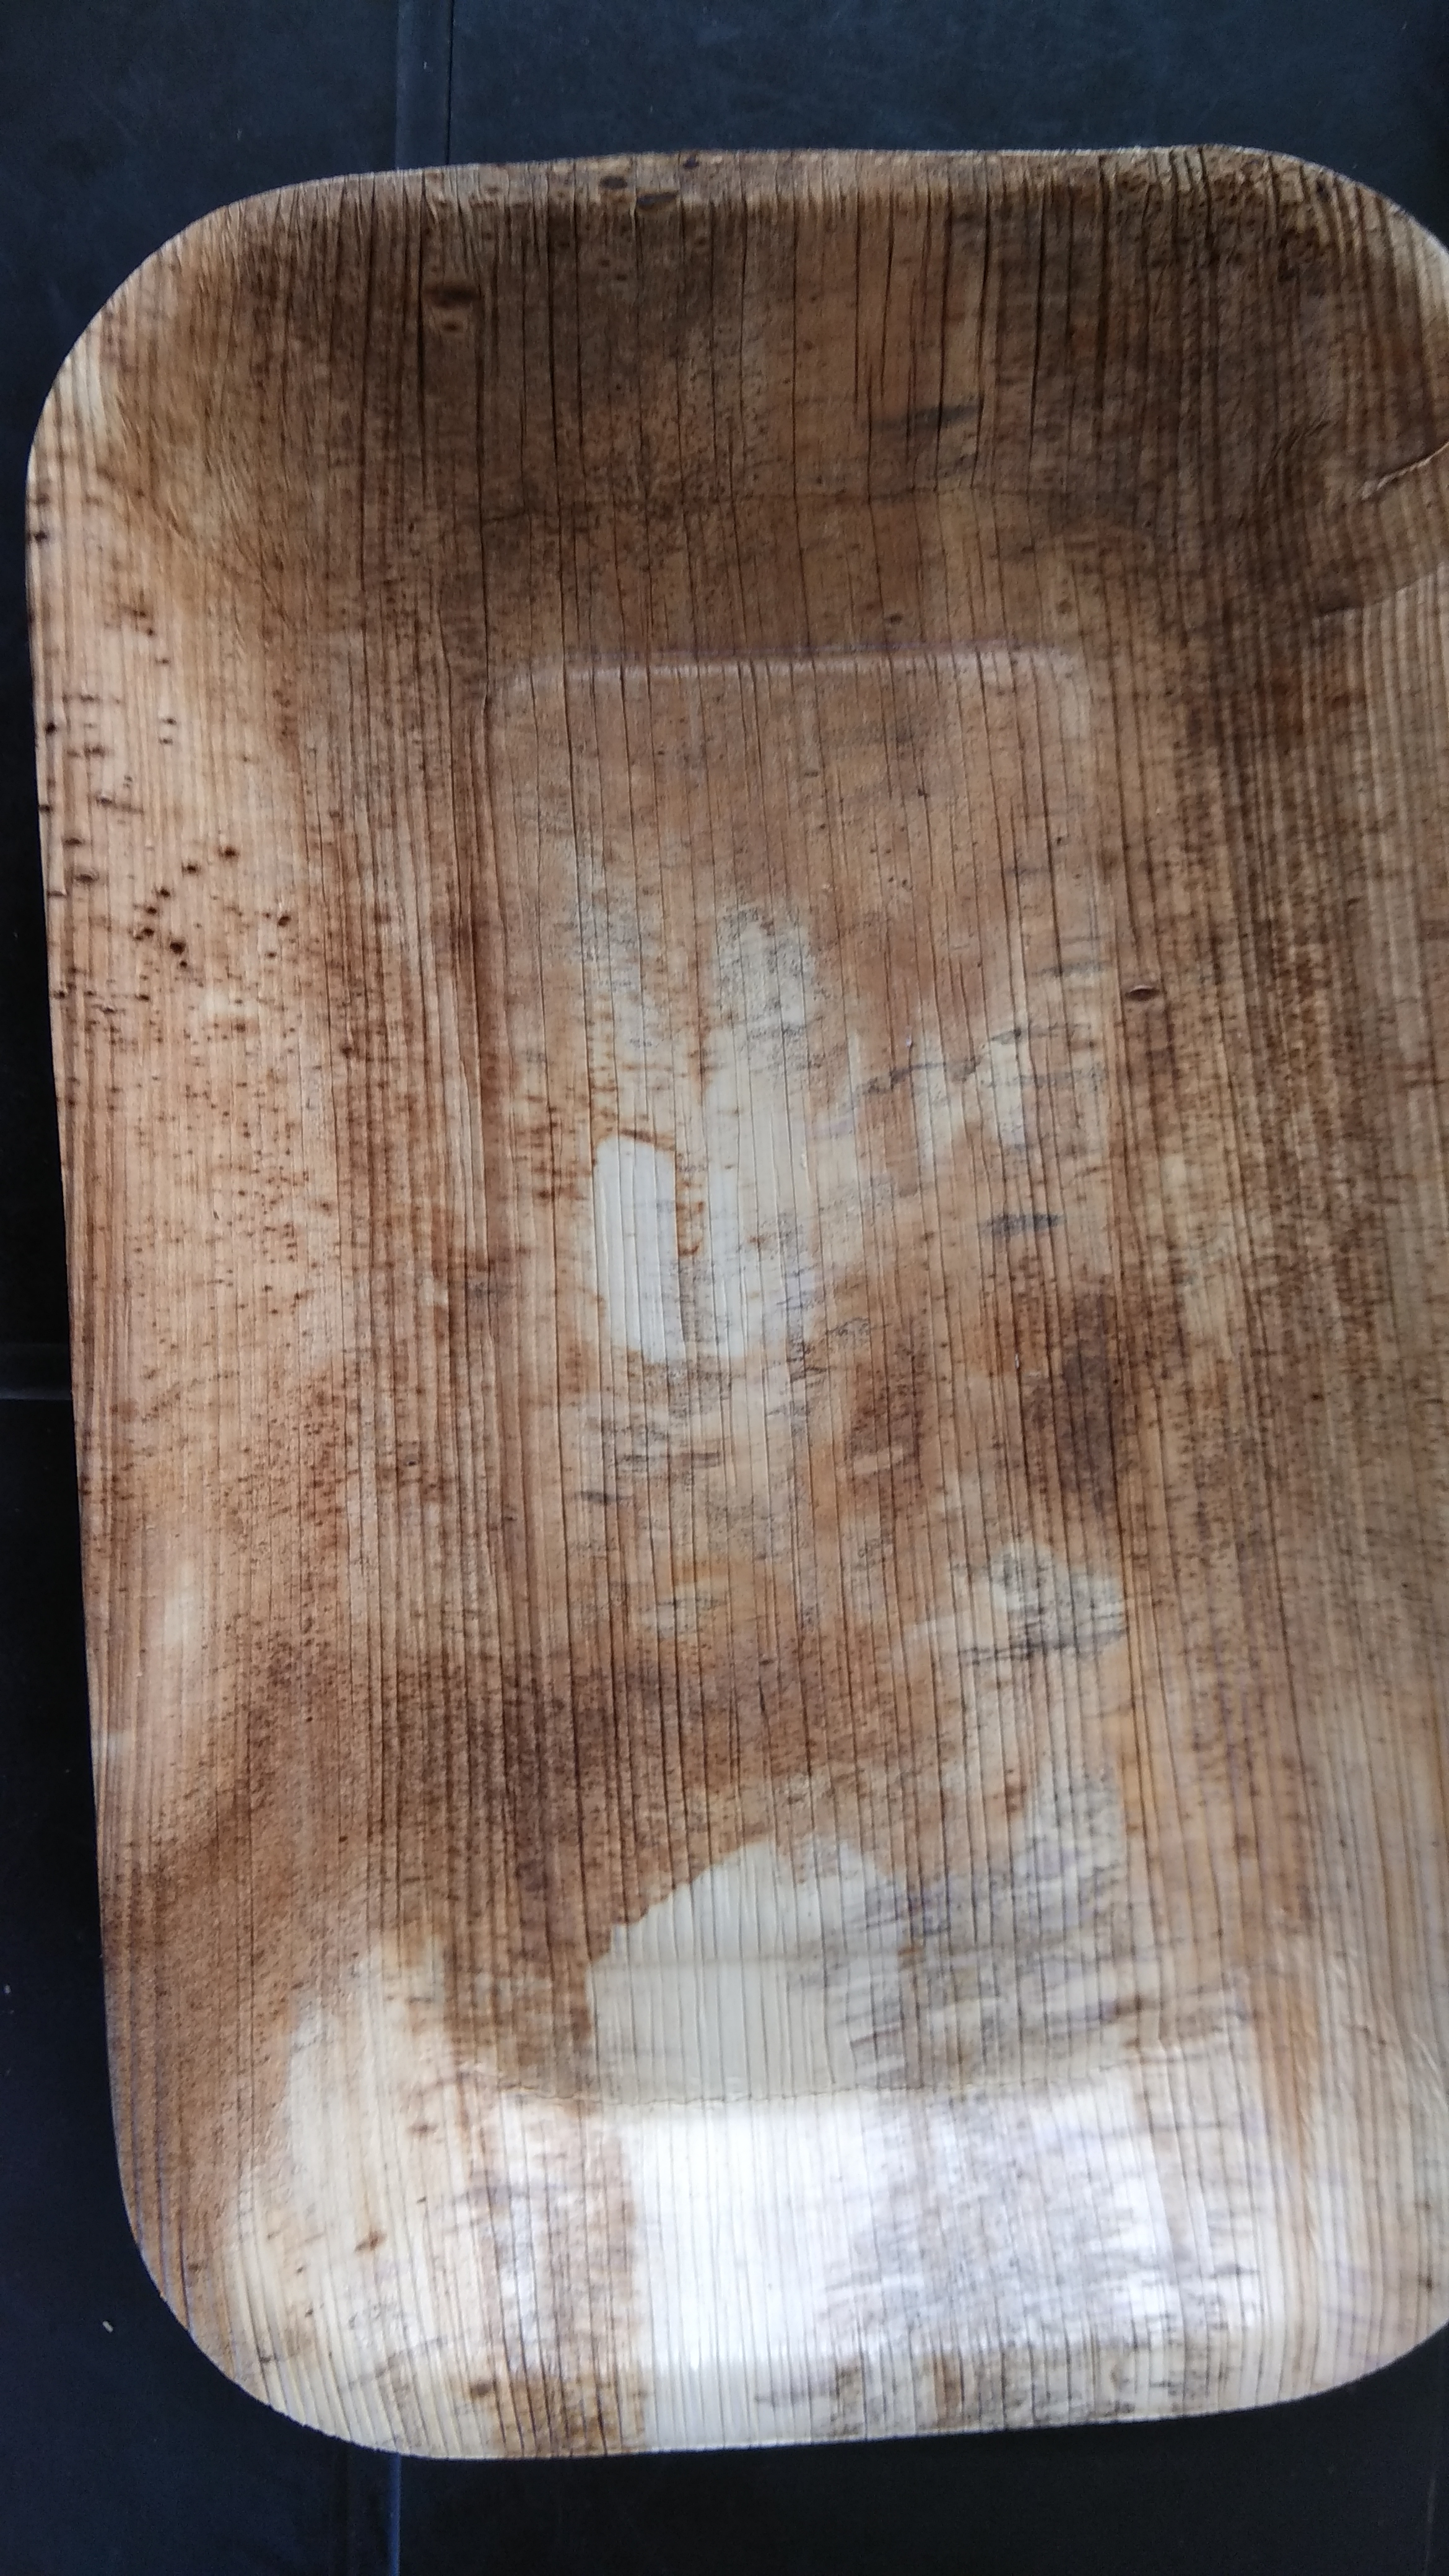areca plate: (74, 145, 1449, 2429)
